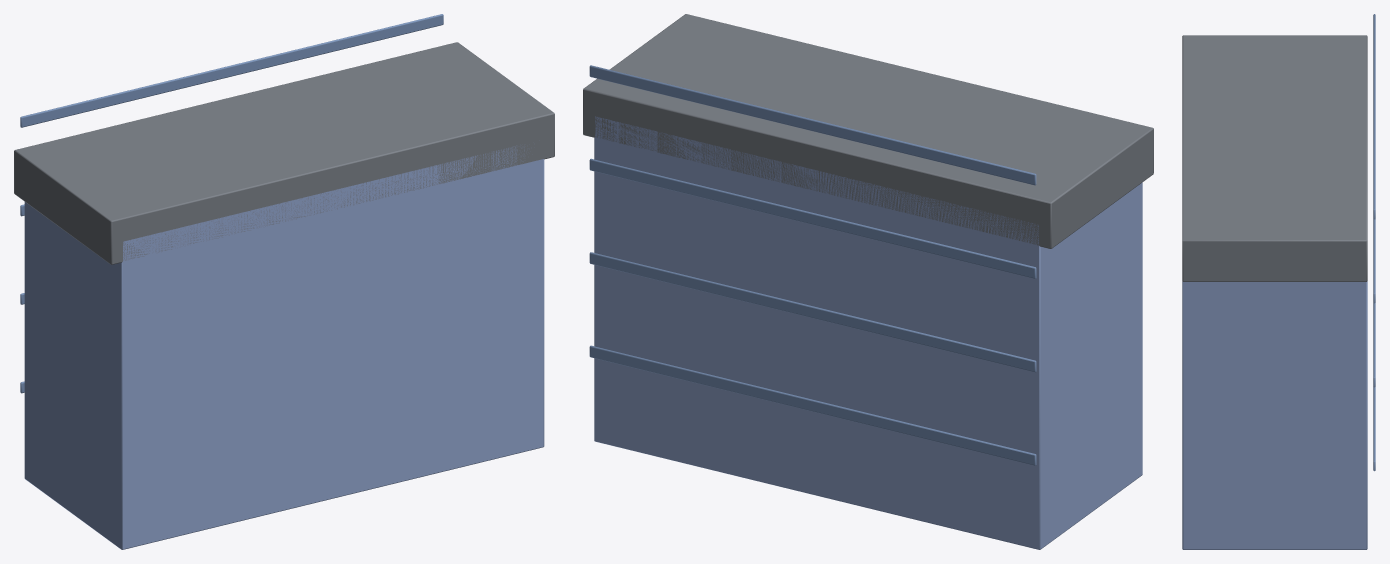
File: SM_COS_UNDERWEAR_BOXERS.fbx
The picture shows the model from 3 angles, left to right: view 1: azimuth 30°, elevation 25°; view 2: azimuth 150°, elevation 25°; view 3: azimuth 270°, elevation 25°; orthographic projection. The views are drawn at different scales.
Parts seen in each view (by area): view 1: SM_COS_UNDERWEAR_BOXERS; view 2: SM_COS_UNDERWEAR_BOXERS; view 3: SM_COS_UNDERWEAR_BOXERS.
Part boxes in pixels (left/top/right/bottom): SM_COS_UNDERWEAR_BOXERS: left=14, top=14, right=554, bottom=549; SM_COS_UNDERWEAR_BOXERS: left=583, top=14, right=1153, bottom=549; SM_COS_UNDERWEAR_BOXERS: left=1182, top=14, right=1375, bottom=549.
Size of what is drawn, in the model's own units: 0.21 by 0.1625 by 0.0835.
